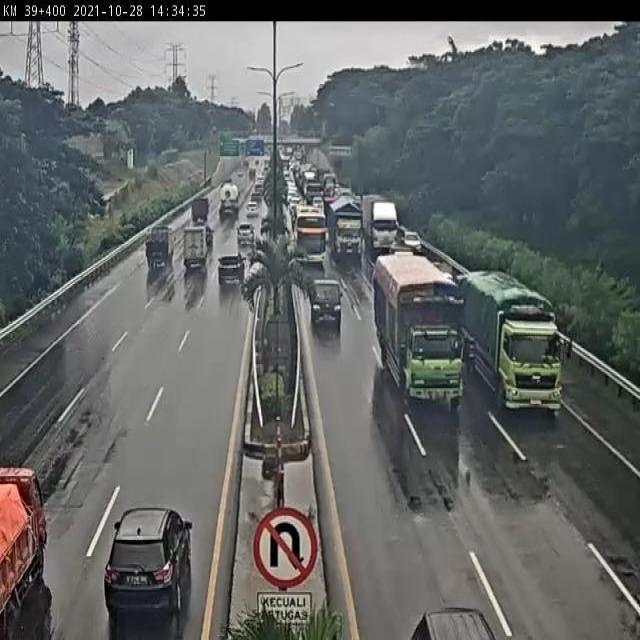ARABA: (107, 504, 195, 615), (141, 221, 174, 275), (311, 276, 342, 327), (180, 226, 206, 278), (213, 253, 247, 292), (188, 193, 212, 224), (234, 223, 255, 253), (401, 229, 424, 252)
OTOBUS: (294, 203, 329, 265)
TIR: (466, 266, 568, 414), (374, 252, 463, 407), (327, 193, 365, 264), (366, 188, 399, 252)
